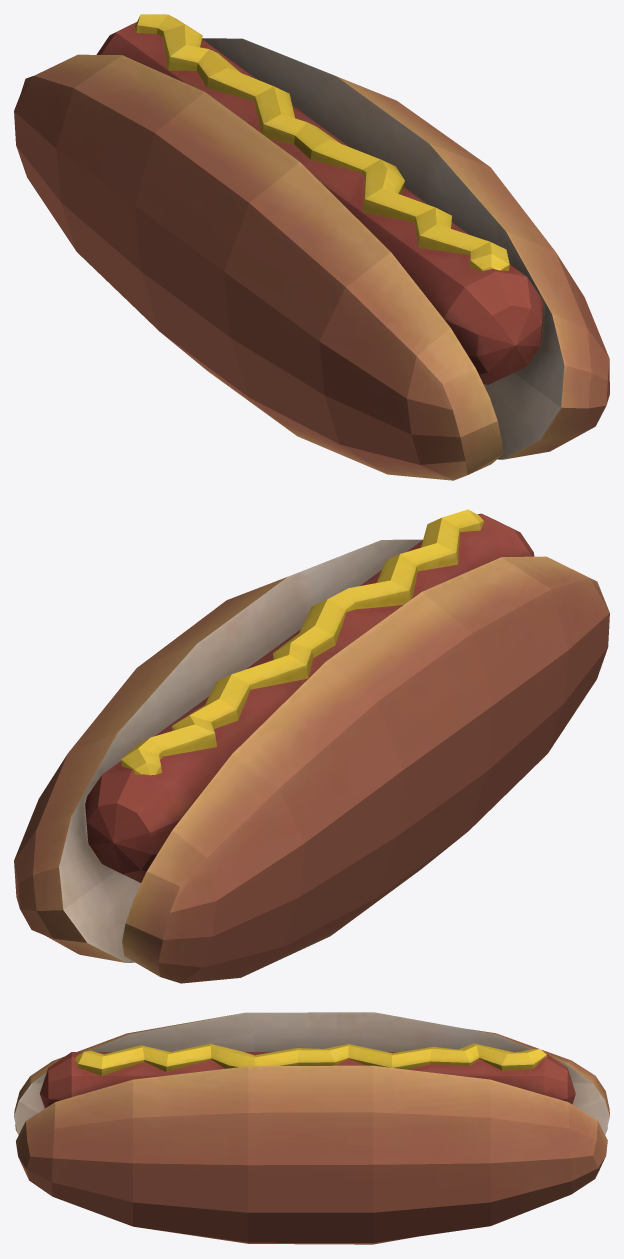
Rendered from 7GZPJAKtU-C.glb.
The picture shows the model from 3 angles, top to bottom: view 1: azimuth 30°, elevation 25°; view 2: azimuth 150°, elevation 25°; view 3: azimuth 270°, elevation 25°; orthographic projection. The views are drawn at different scales.
Parts seen in each view (by area): view 1: Hotdog_Mesh; view 2: Hotdog_Mesh; view 3: Hotdog_Mesh.
Part boxes in pixels (bbox=[...]): Hotdog_Mesh: bbox=[14, 14, 609, 480]; Hotdog_Mesh: bbox=[14, 509, 609, 983]; Hotdog_Mesh: bbox=[14, 1012, 609, 1244].
Size of the model in its own units: 1.11 by 0.9999 by 2.85.
Materials: 1 (1 with a texture image).
